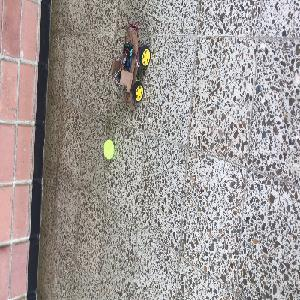Ball: (103, 140, 115, 158)
Robot: (108, 28, 151, 110)
